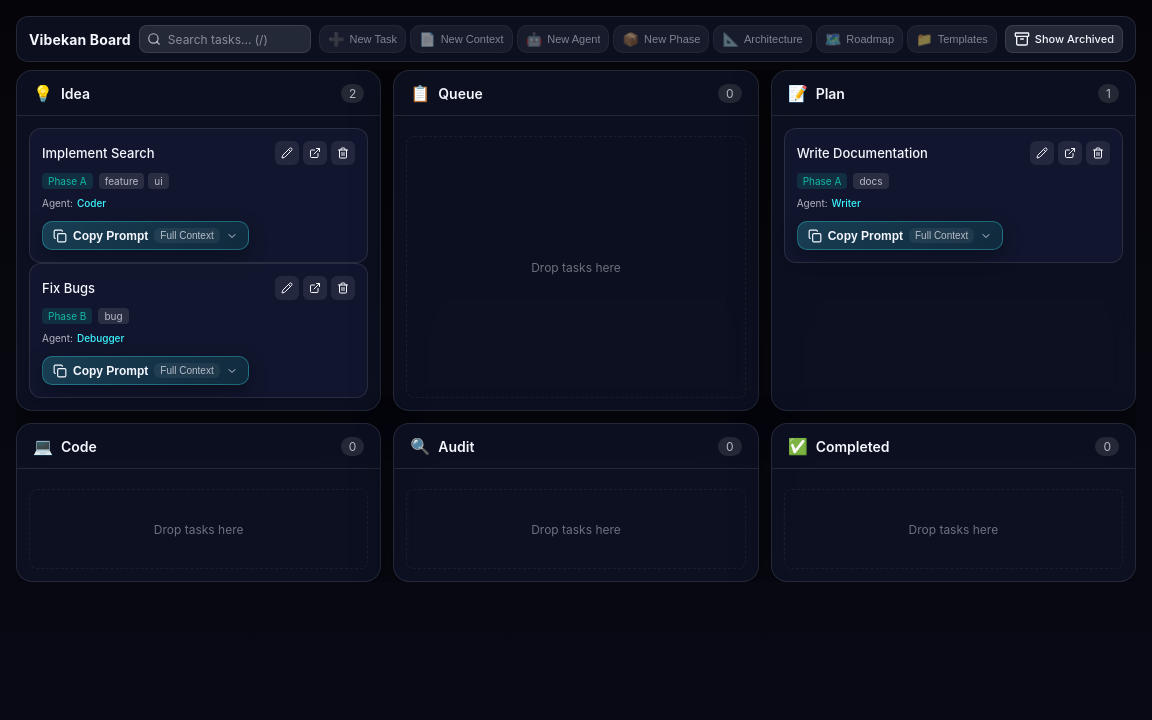
Test case: Board Search Bar › filters tasks based on agent
In the field with placeholder "Search tasks... (/)": (225, 39) [139, 25, 311, 53], type "Writer"
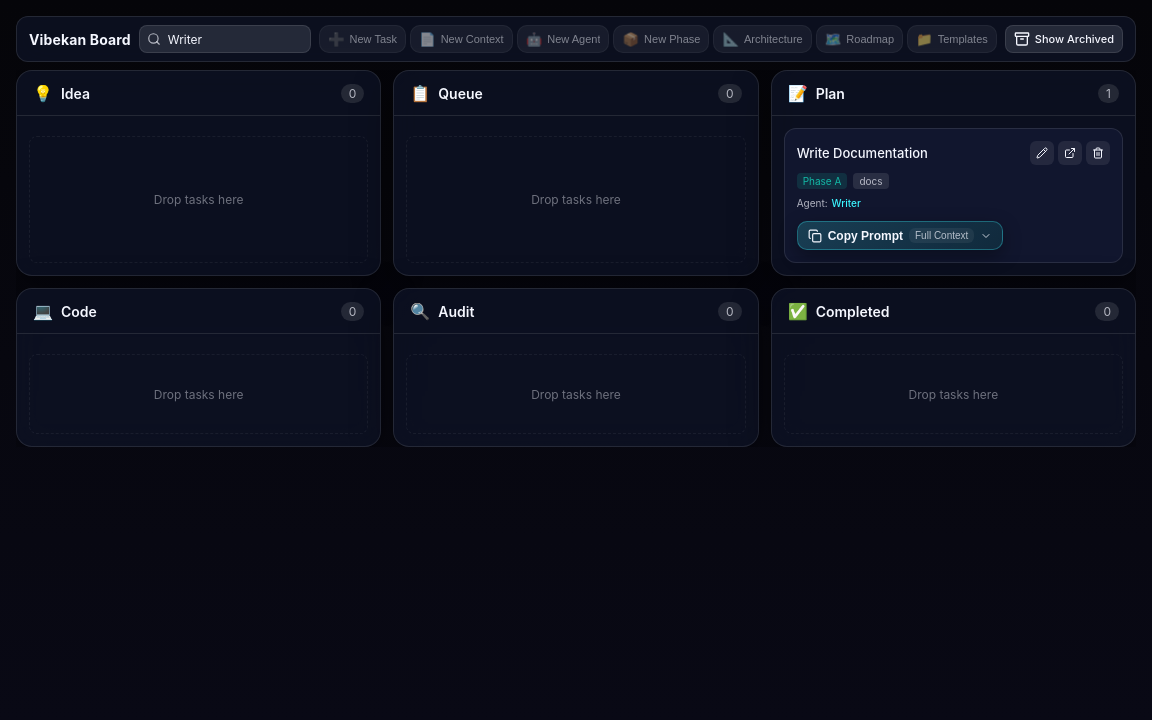
Expected: the text "Write Documentation" is shown, [797, 145, 928, 161]
Expected: the button "Implement Search" is gone
Expected: the button "Fix Bugs" is gone
